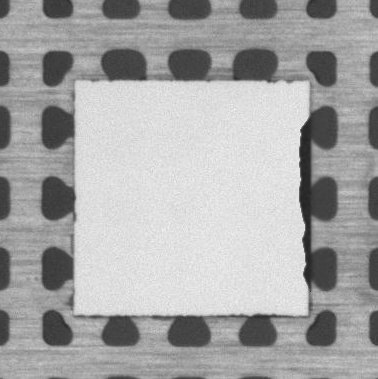DIE_BROKEN: (295, 121, 313, 287)
